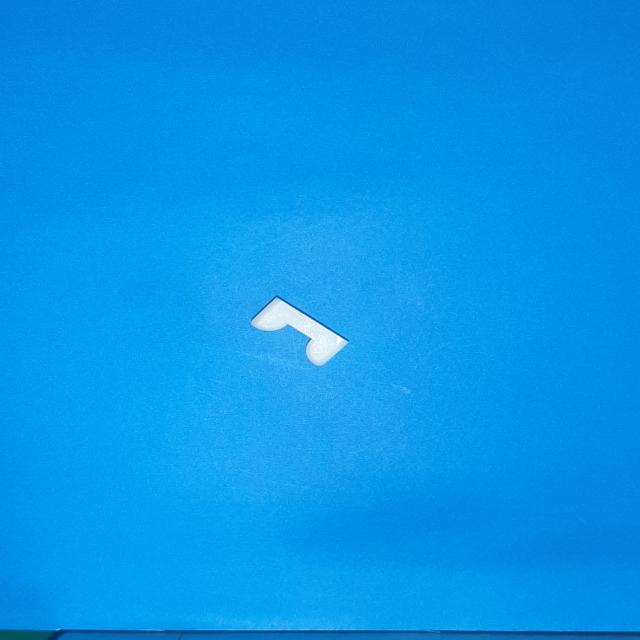false_2: (252, 298, 348, 366)
